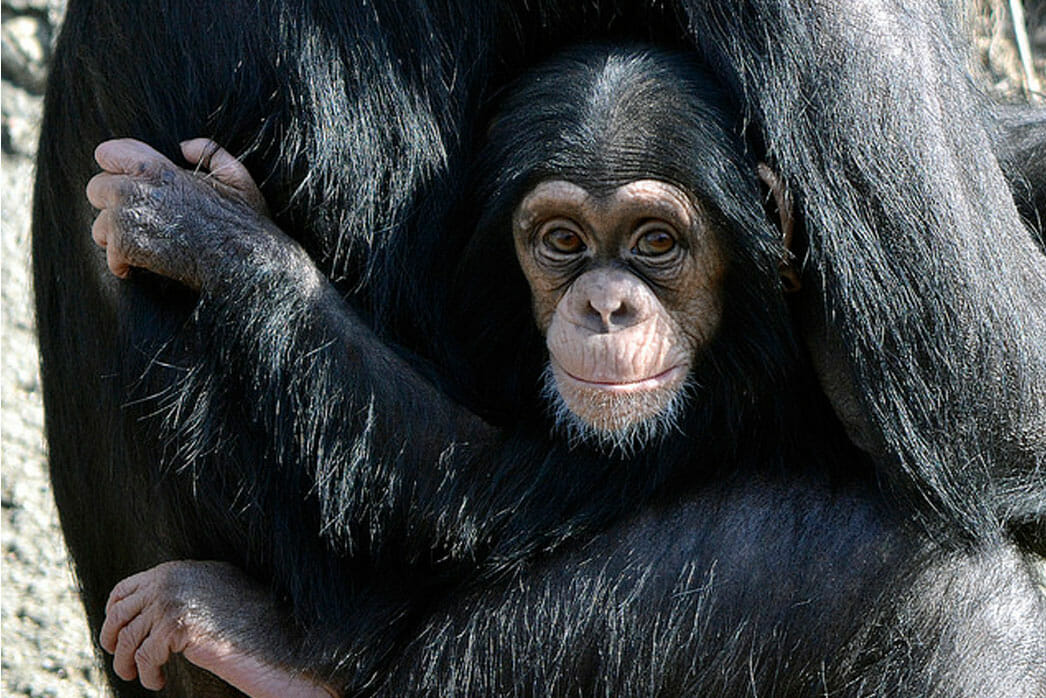Champanze: (474, 76, 763, 470)
